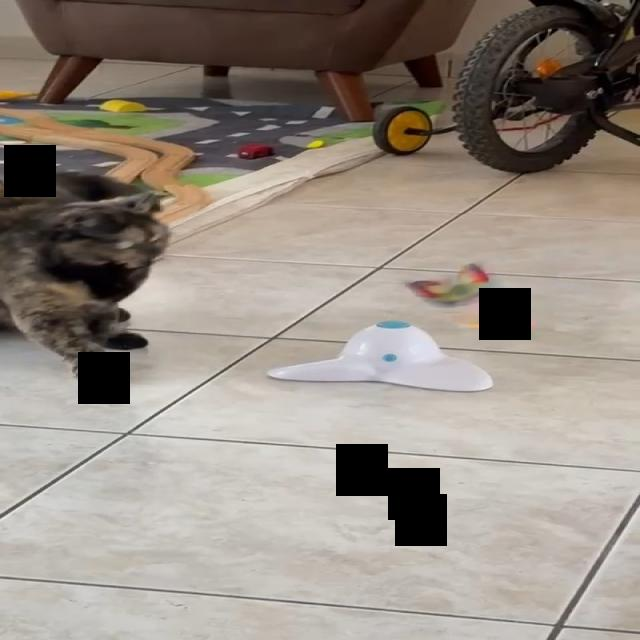authorized: (0, 170, 171, 380)
